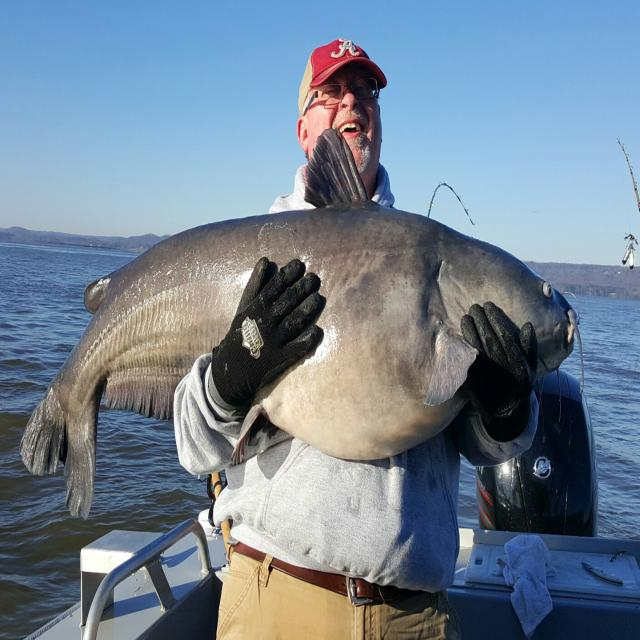Catfish - Blue: (21, 200, 575, 516)
